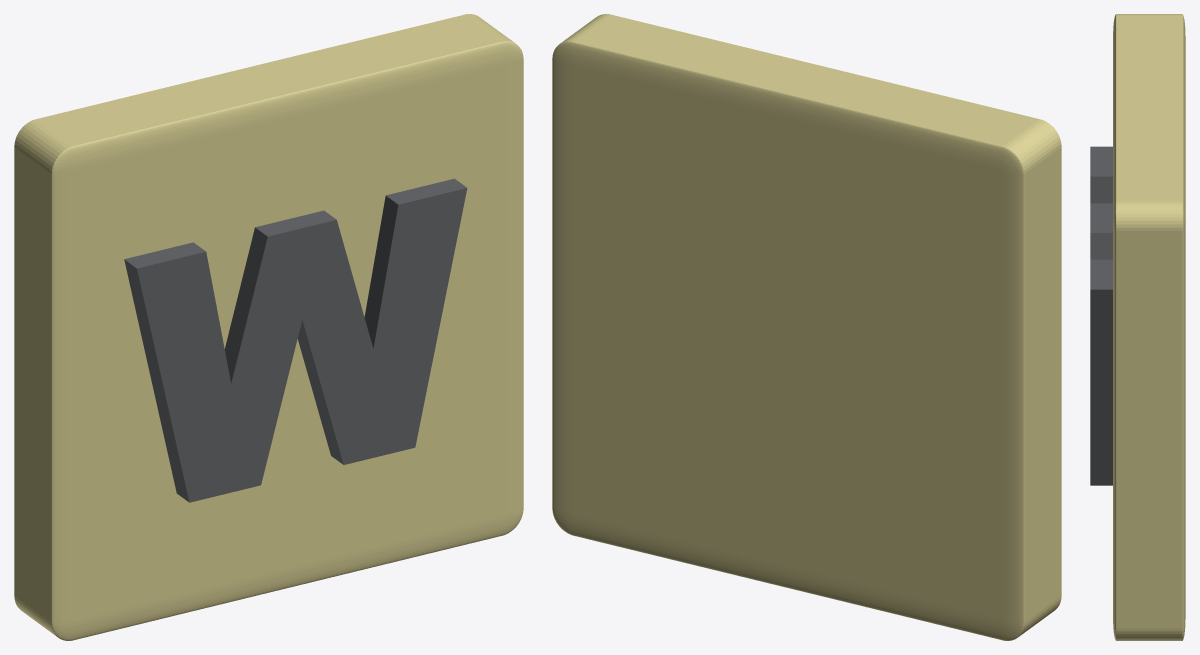
File: words.glb
3 views of the same model, side by side, from view 1: azimuth 30°, elevation 25°; view 2: azimuth 150°, elevation 25°; view 3: azimuth 270°, elevation 25° (orthographic). The views are drawn at different scales.
Parts seen in each view (by area): view 1: Mesh_Mesh_head_geo.001_lambert2SG.001; view 2: Mesh_Mesh_head_geo.001_lambert2SG.001; view 3: Mesh_Mesh_head_geo.001_lambert2SG.001.
Part boxes in pixels (box(x1,y1,x2,y2)): Mesh_Mesh_head_geo.001_lambert2SG.001: box(14, 14, 523, 640); Mesh_Mesh_head_geo.001_lambert2SG.001: box(552, 14, 1061, 640); Mesh_Mesh_head_geo.001_lambert2SG.001: box(1090, 14, 1185, 640).
Size of the model in its own units: 20 by 20 by 3.94.
